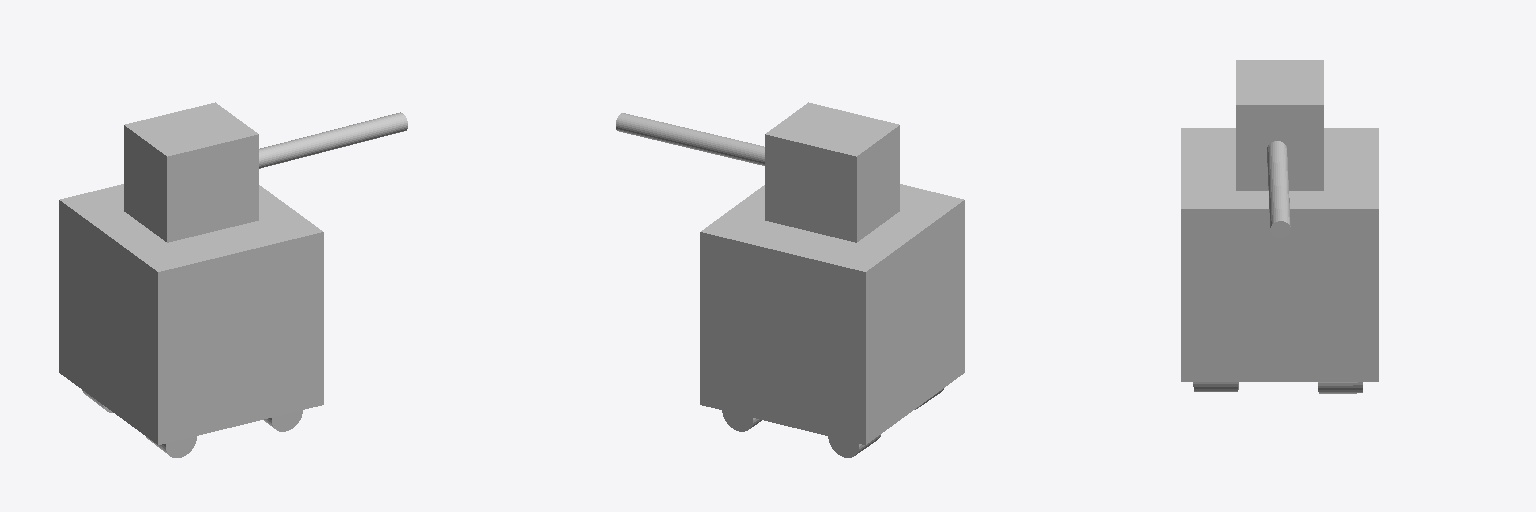
File: tanque.obj
3 renders of one model, left to right at view 1: azimuth 30°, elevation 25°; view 2: azimuth 150°, elevation 25°; view 3: azimuth 270°, elevation 25°, orthographic.
Parts seen in each view (by area): view 1: Cube, Cabeza, Cilindro; view 2: Cube, Cabeza, Cilindro; view 3: Cube, Cabeza, Cilindro, Cilindro.003.
Part boxes in pixels (left/top/right/bottom): Cube: left=59, top=184, right=323, bottom=444; Cabeza: left=124, top=102, right=258, bottom=242; Cilindro: left=259, top=112, right=407, bottom=168; Cube: left=700, top=184, right=964, bottom=444; Cabeza: left=765, top=102, right=899, bottom=242; Cilindro: left=616, top=113, right=764, bottom=165; Cube: left=1181, top=128, right=1378, bottom=381; Cabeza: left=1236, top=60, right=1323, bottom=190; Cilindro: left=1267, top=141, right=1290, bottom=237; Cilindro.003: left=1318, top=382, right=1362, bottom=393.
Size of the model in its own units: 3.56 by 3.29 by 2.08.